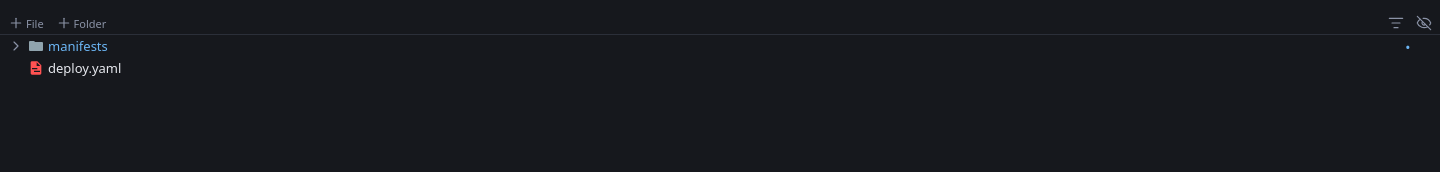
the changed-only mode (#40) › shows a change under its ancestors without anything being expanded
The width and height of the screenshot is (1440, 172).
Expected: the list item "app.yaml" is not shown
Click the button named "Changed only".
click(1396, 23)  # box [1384,12,1408,34]
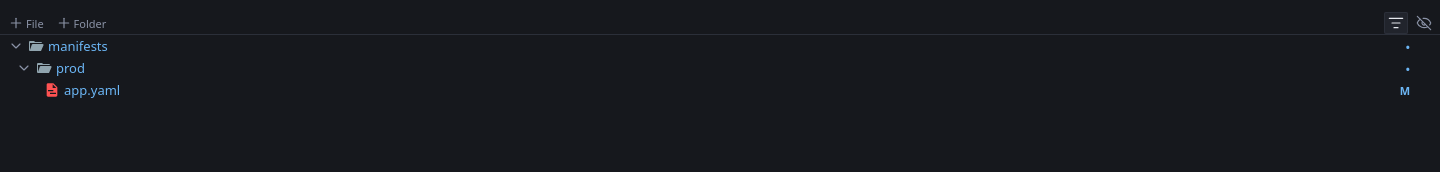
Now the list items read "manifests•", "prod•", "app.yamlM", in this order, box [0,35,1439,57]; [0,57,1439,79]; [0,79,1439,101]
